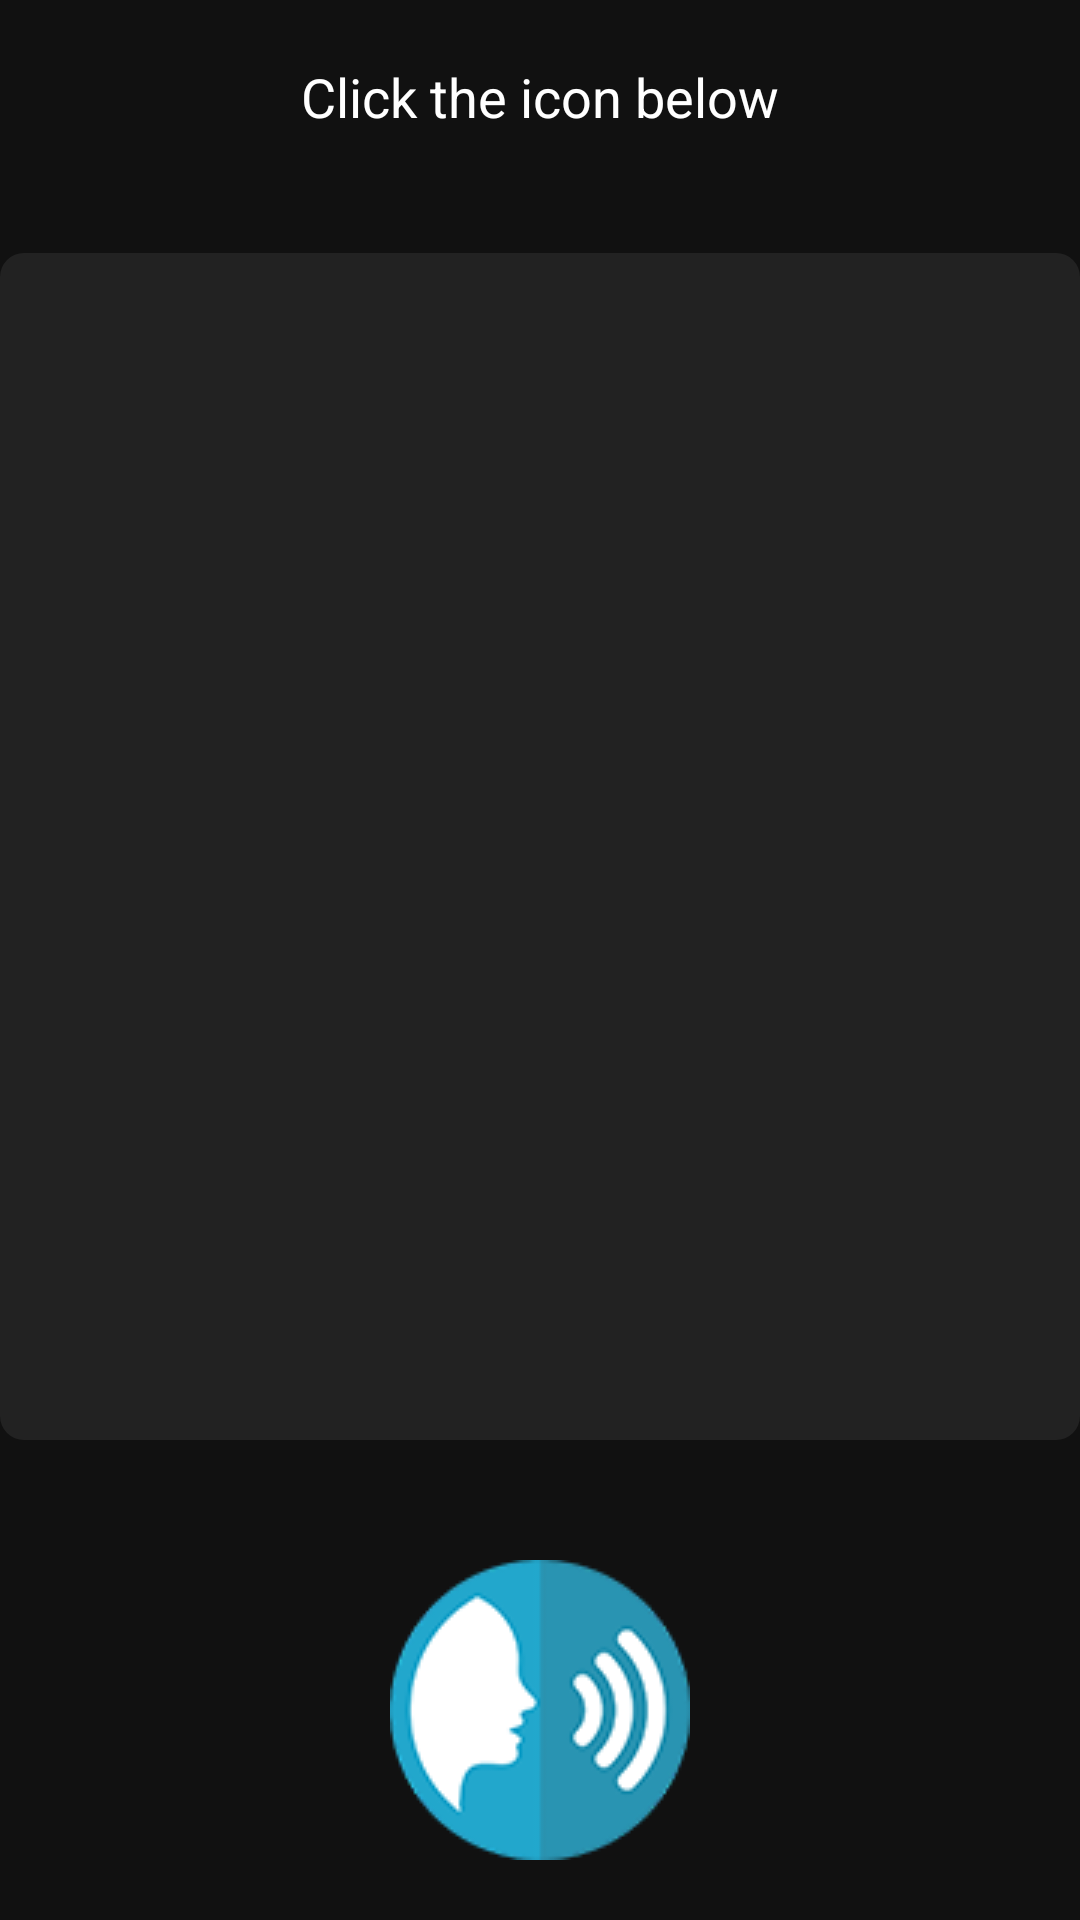

Screen size 1080px×1920px. Icon name, then its center in pixels as point (x, y):
speak: point (540, 1710)
